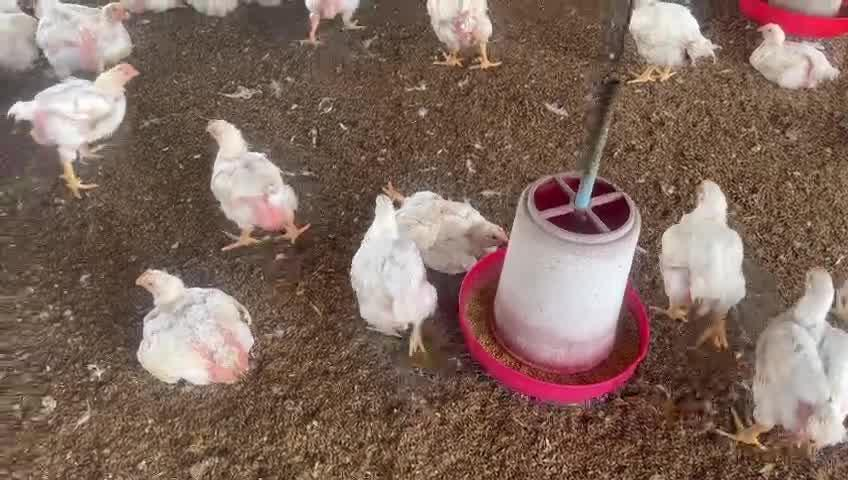AbNormal: (385, 166, 511, 278), (754, 19, 848, 95)
Normal: (736, 264, 848, 458), (659, 176, 771, 348), (10, 60, 135, 199), (195, 105, 311, 246), (131, 266, 261, 383), (351, 191, 439, 348), (35, 0, 149, 80), (622, 0, 718, 90), (420, 0, 526, 72)
